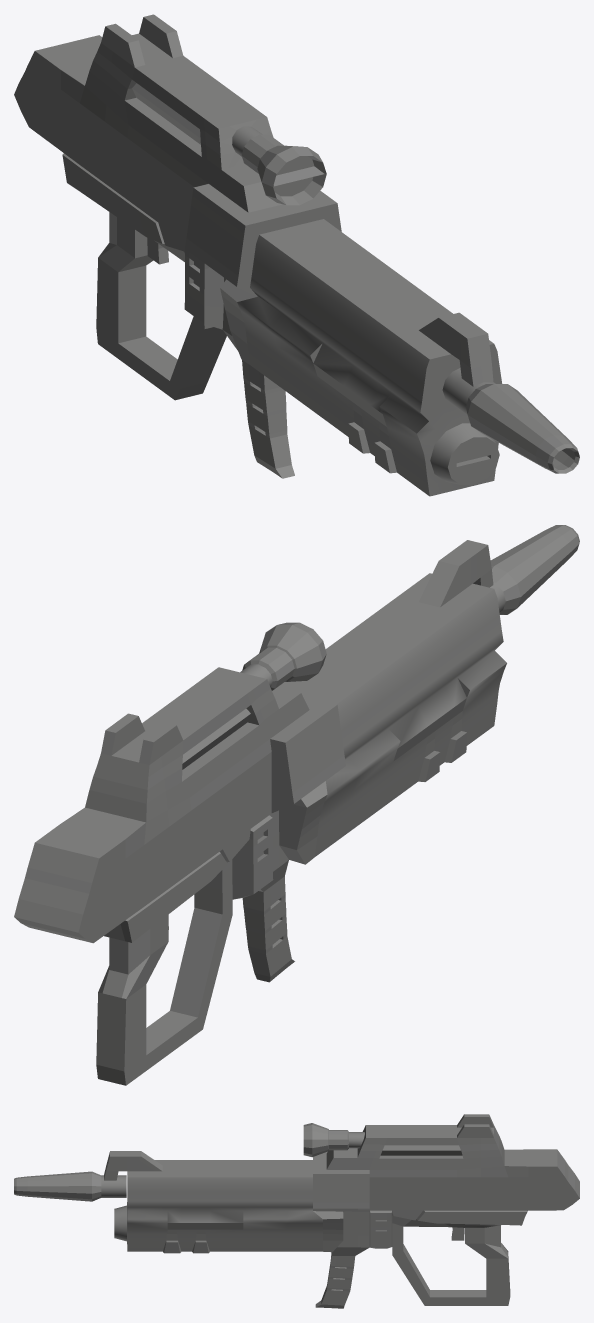
Rendered from MACHINEGUN.FBX.
3 views of the same model, one above another, from view 1: azimuth 30°, elevation 25°; view 2: azimuth 150°, elevation 25°; view 3: azimuth 270°, elevation 25° (orthographic). The views are drawn at different scales.
Visible parts, largest first — view 1: Box002; view 2: Box002; view 3: Box002.
Part boxes in pixels (x1,y1,x2,y2): Box002: (14,14,579,496); Box002: (14,525,579,1085); Box002: (14,1114,579,1308).
Bounding box in the file's own units: 1.91 × 5.71 × 15.71.
